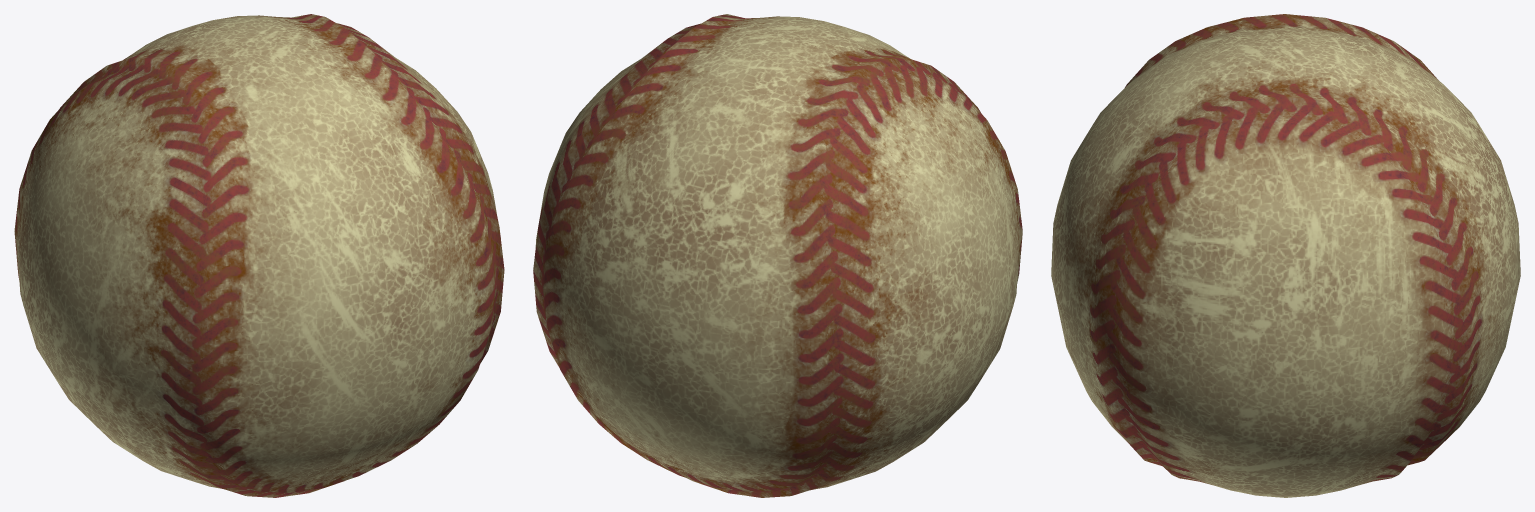
Rendered from baseball.glb.
3 views of the same model, side by side, from view 1: azimuth 30°, elevation 25°; view 2: azimuth 150°, elevation 25°; view 3: azimuth 270°, elevation 25° (orthographic).
Visible parts, largest first — view 1: Baseball; view 2: Baseball; view 3: Baseball.
Boxes of the visible parts, left/top/right/bottom form: Baseball: left=14, top=14, right=504, bottom=497; Baseball: left=533, top=14, right=1022, bottom=497; Baseball: left=1051, top=14, right=1520, bottom=497.
Bounding box in the file's own units: 0.0383 × 0.038 × 0.0377.
Materials: 1 (1 with a texture image).
